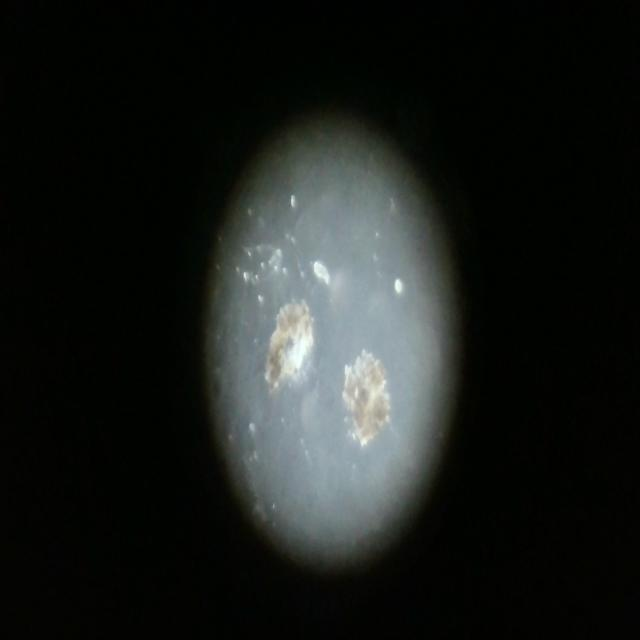alexandrium: (337, 344, 396, 454), (263, 283, 314, 397)
